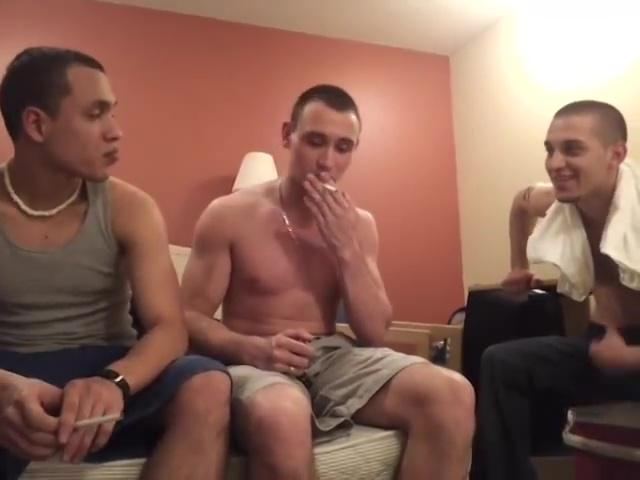cigarette: (76, 409, 125, 431), (323, 181, 341, 196)
